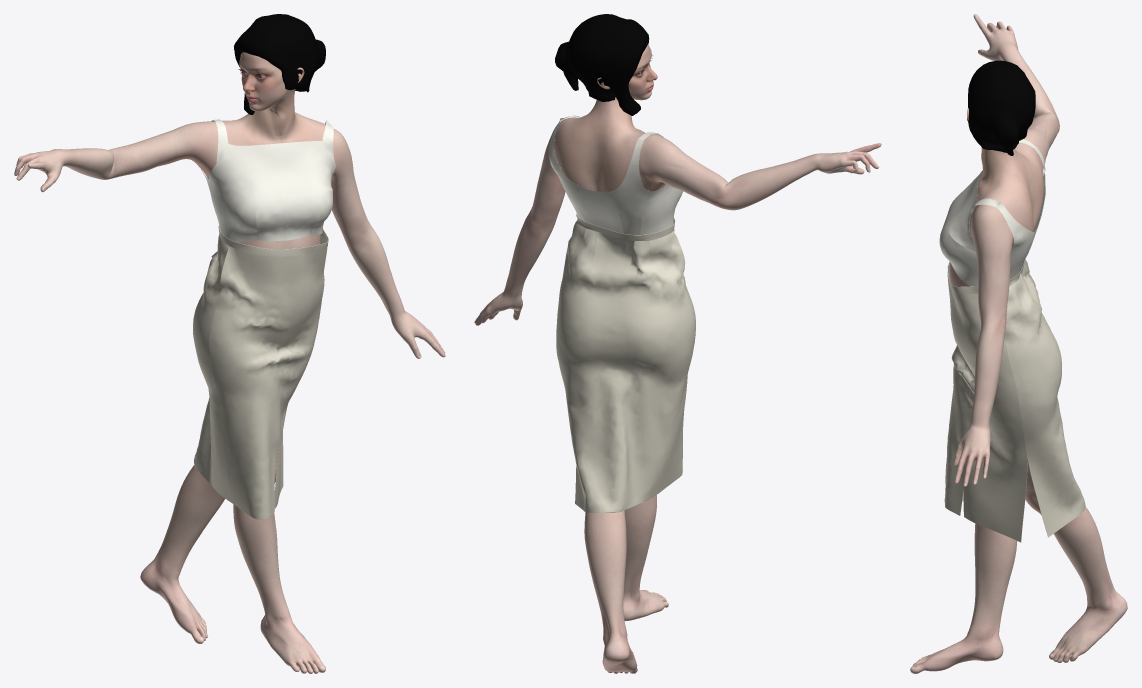
File: Dynamic.obj
3 renders of one model, left to right at view 1: azimuth 30°, elevation 25°; view 2: azimuth 150°, elevation 25°; view 3: azimuth 270°, elevation 25°, orthographic. The views are drawn at different scales.
Bounding box in the file's own units: 1226 × 1775 × 569.
